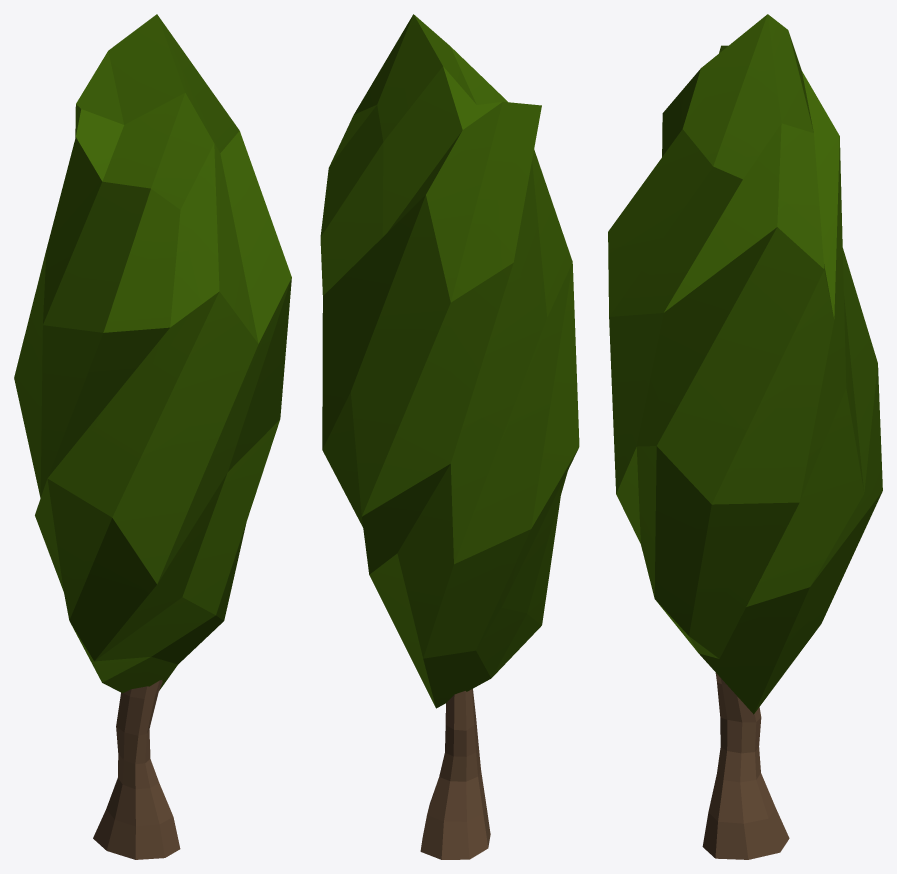
3 views of the same model, side by side, from view 1: azimuth 30°, elevation 25°; view 2: azimuth 150°, elevation 25°; view 3: azimuth 270°, elevation 25° (orthographic). The views are drawn at different scales.
Visible parts, largest first — view 1: coniferous_trees_07; view 2: coniferous_trees_07; view 3: coniferous_trees_07.
Boxes of the visible parts, x1,y1,x2,y2 form: coniferous_trees_07: (14,14,291,859); coniferous_trees_07: (320,14,579,859); coniferous_trees_07: (608,14,882,859).
Size of the model in its own units: 0.6068 by 2.14 by 0.631.
